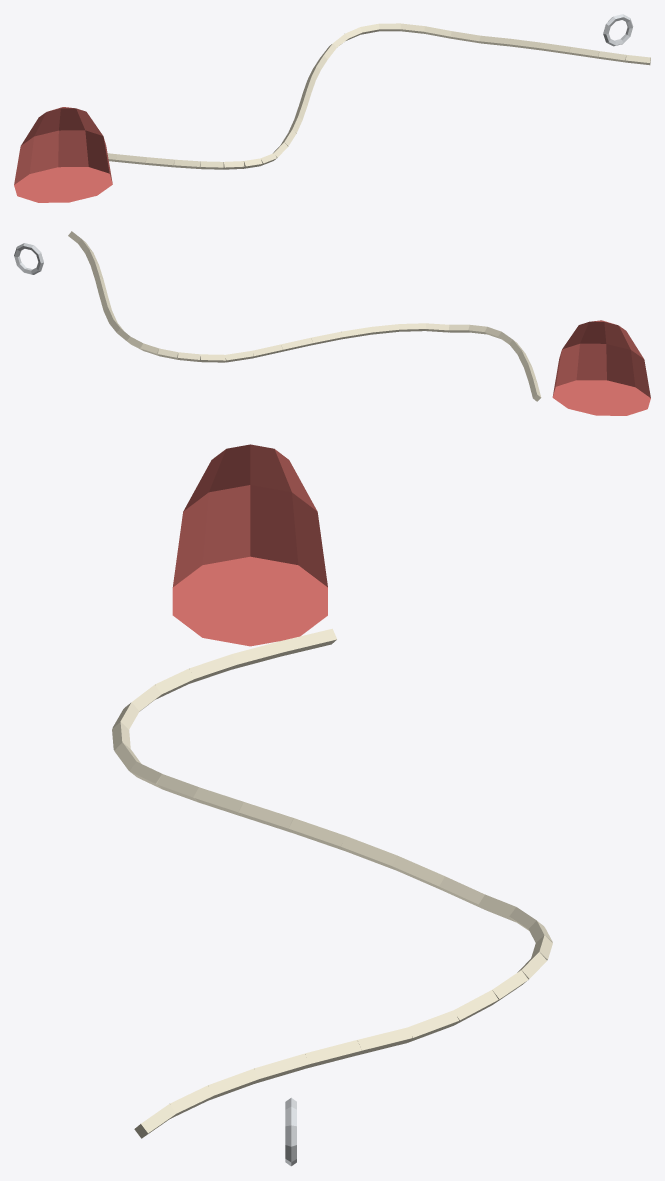
File: hot-air-balloon-festival-balloon-drop-line-34c29bf6__38483.glb
The picture shows the model from 3 angles, top to bottom: view 1: azimuth 30°, elevation 25°; view 2: azimuth 150°, elevation 25°; view 3: azimuth 270°, elevation 25°; orthographic projection. The views are drawn at different scales.
Visible parts, largest first — view 1: balloon-drop-line-canvasA, balloon-drop-line-rope, balloon-drop-line-steel; view 2: balloon-drop-line-canvasA, balloon-drop-line-rope, balloon-drop-line-steel; view 3: balloon-drop-line-canvasA, balloon-drop-line-rope.
Boxes of the visible parts, x1,y1,x2,y2 form: balloon-drop-line-canvasA: (14, 107, 112, 202); balloon-drop-line-rope: (107, 23, 650, 169); balloon-drop-line-steel: (603, 14, 633, 46); balloon-drop-line-canvasA: (552, 320, 650, 415); balloon-drop-line-rope: (68, 231, 541, 401); balloon-drop-line-steel: (14, 243, 43, 274); balloon-drop-line-canvasA: (172, 444, 327, 646); balloon-drop-line-rope: (112, 628, 552, 1138).
Bounding box in the file's own units: 3.53 × 0.4508 × 1.08.
